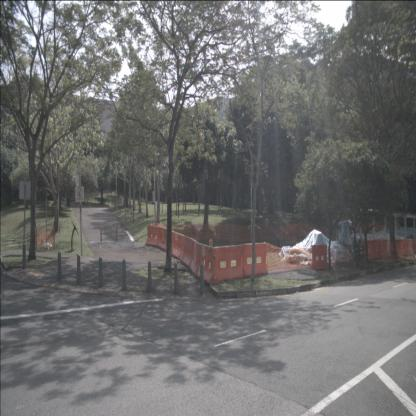movable_object-barrier: (212, 242, 242, 286), (240, 241, 268, 278), (360, 238, 393, 262), (390, 236, 415, 261), (183, 233, 195, 271), (156, 223, 171, 252), (147, 221, 160, 249), (189, 238, 198, 278), (172, 229, 183, 259), (179, 231, 187, 265)
